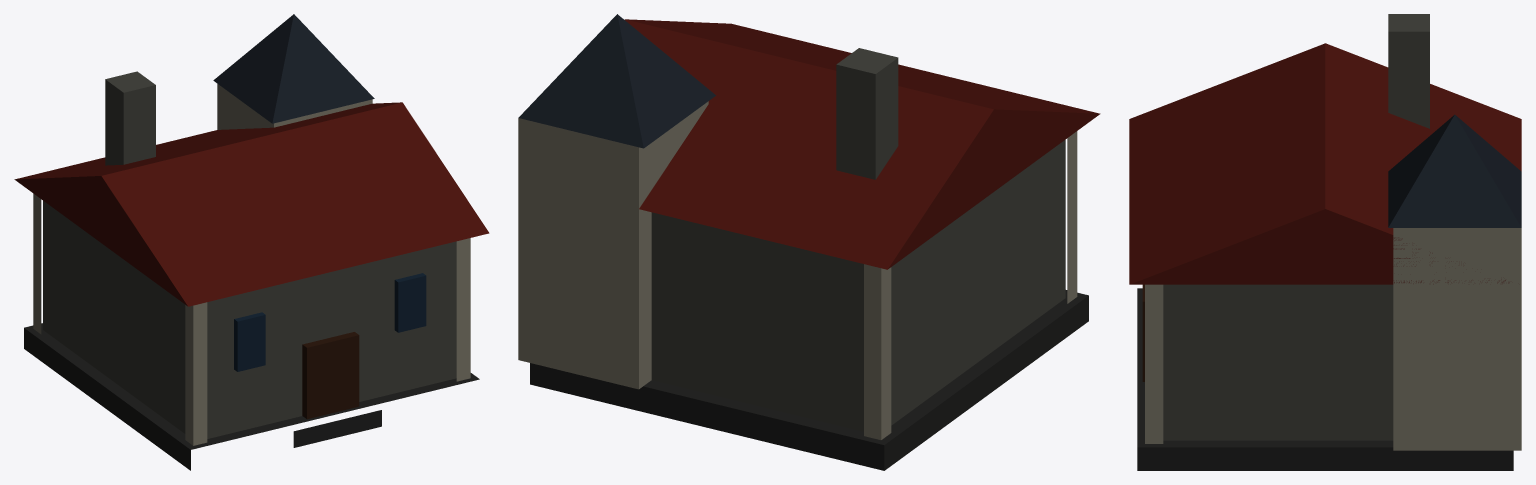
The model's file is house_t3_v1.glb.
3 renders of one model, left to right at view 1: azimuth 30°, elevation 25°; view 2: azimuth 150°, elevation 25°; view 3: azimuth 270°, elevation 25°, orthographic. The views are drawn at different scales.
Visible parts, largest first — view 1: house_t3_v1; view 2: house_t3_v1; view 3: house_t3_v1.
Part boxes in pixels (<box>): house_t3_v1: <box>14,14,489,470</box>; house_t3_v1: <box>518,14,1100,470</box>; house_t3_v1: <box>1129,14,1521,470</box>.
Bounding box in the file's own units: 0.75 × 0.7 × 0.75.
Materials: 1 (1 with a texture image).
